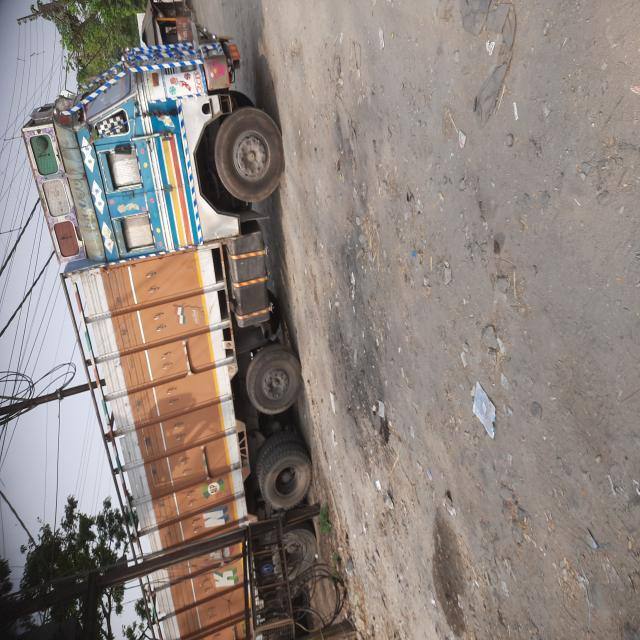Truck: (2, 72, 451, 403)
